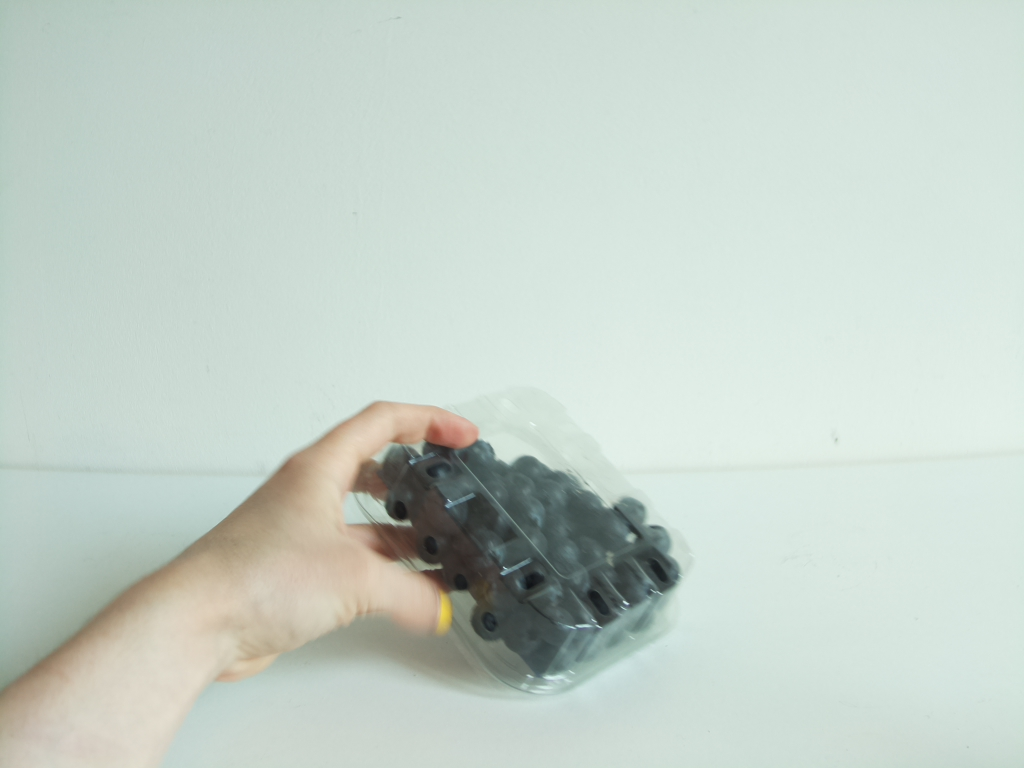soft-fruit: (354, 394, 691, 694)
